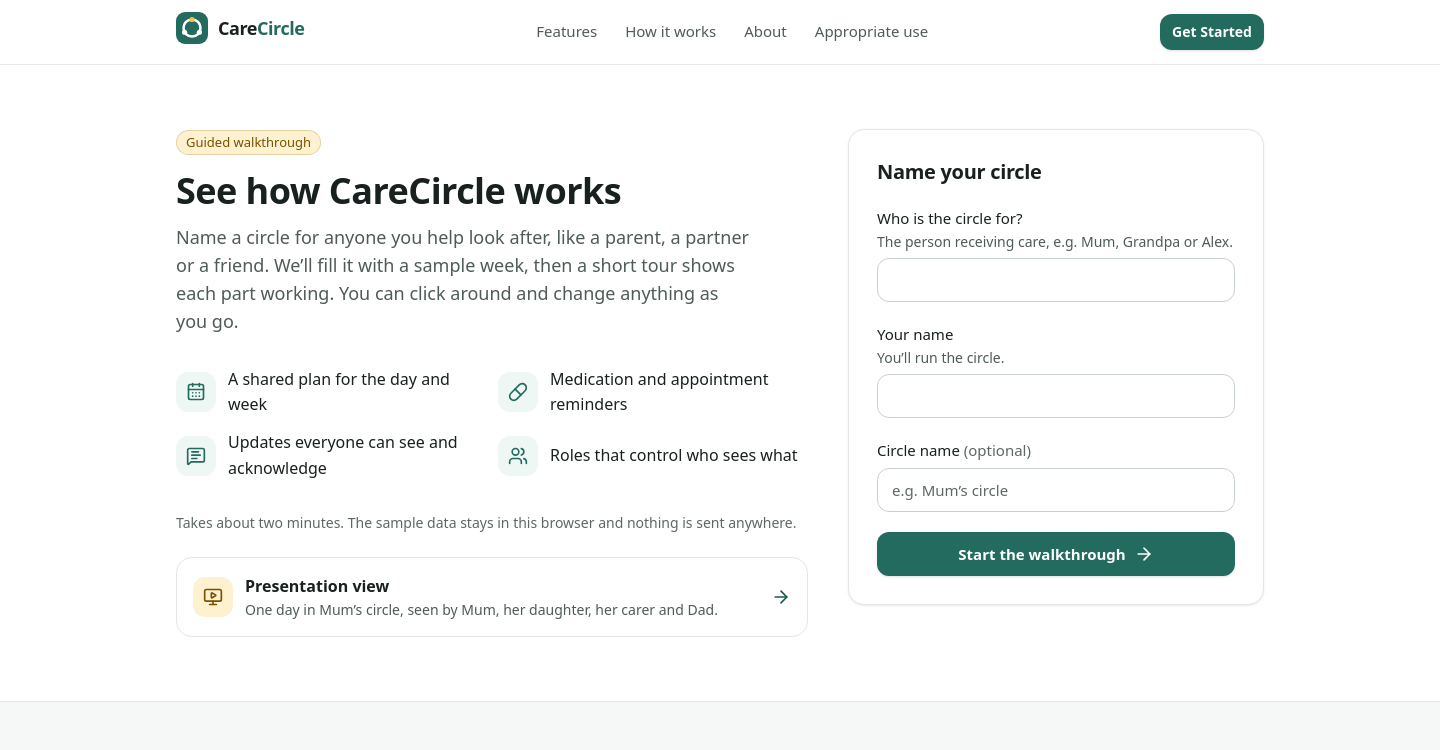
Scenario: the guided walkthrough › asks for both names before starting
Click the button "Start the walkthrough" at (1056, 554), box [877,532,1235,576]
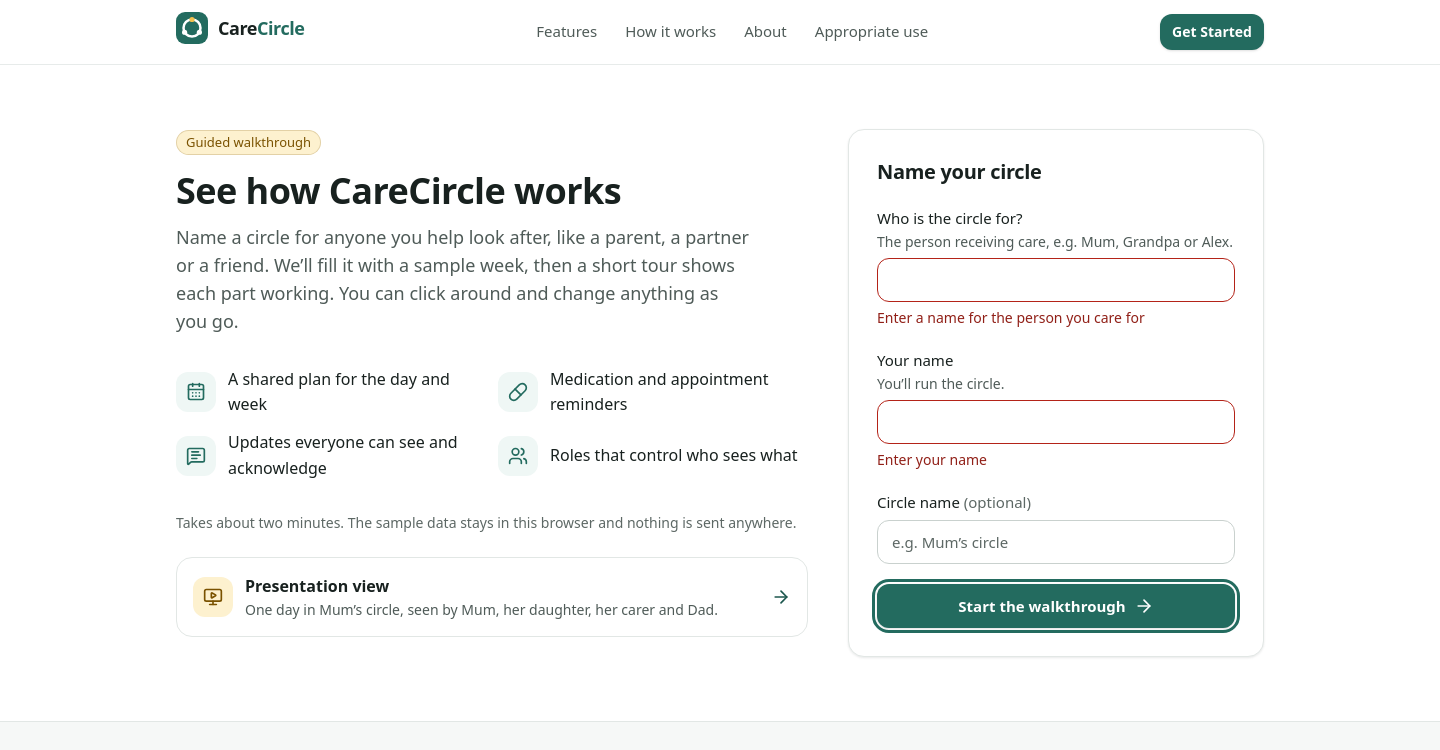
Result: the text "Enter a name for the person you care for" is shown at [877,308,1145,327]
Result: the text "Enter your name" is shown at [877,450,987,469]
